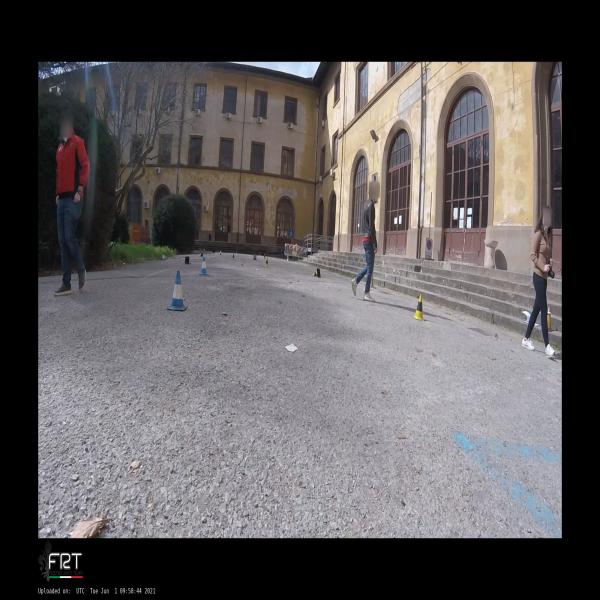blue_cone: (167, 271, 188, 311), (199, 256, 208, 276), (162, 254, 165, 261), (219, 250, 222, 255), (199, 246, 201, 251), (204, 248, 205, 252)
unknown_cone: (548, 307, 552, 332), (185, 256, 191, 265), (253, 255, 257, 260), (199, 253, 203, 257), (212, 250, 214, 253)
yellow_cone: (412, 294, 424, 321), (312, 268, 320, 278), (264, 256, 268, 268), (231, 253, 236, 261), (263, 254, 266, 260), (259, 251, 261, 256), (236, 249, 237, 254)
